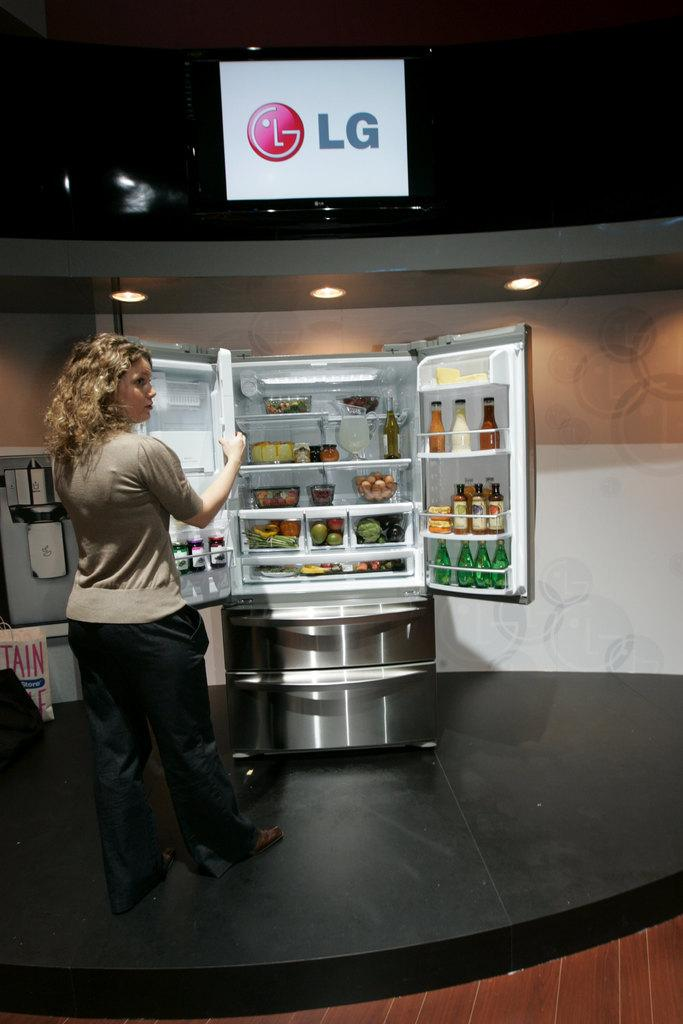handle: (236, 664, 426, 700), (229, 604, 421, 630)
